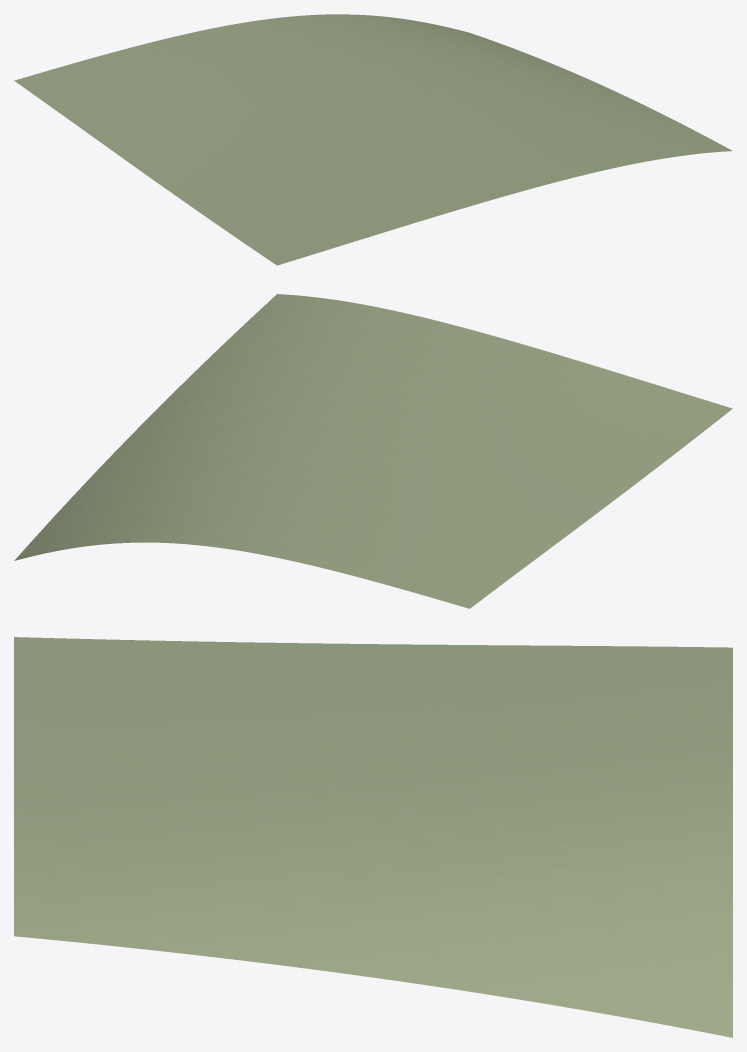
File: expanse-11-23.glb
The picture shows the model from 3 angles, top to bottom: view 1: azimuth 30°, elevation 25°; view 2: azimuth 150°, elevation 25°; view 3: azimuth 270°, elevation 25°; orthographic projection. The views are drawn at different scales.
Visible parts, largest first — view 1: expanse-11-23; view 2: expanse-11-23; view 3: expanse-11-23.
Part boxes in pixels (bbox=[...]): expanse-11-23: bbox=[14, 14, 732, 265]; expanse-11-23: bbox=[14, 294, 732, 608]; expanse-11-23: bbox=[14, 637, 732, 1037].
Size of the model in its own units: 256 by 46.52 by 256.
